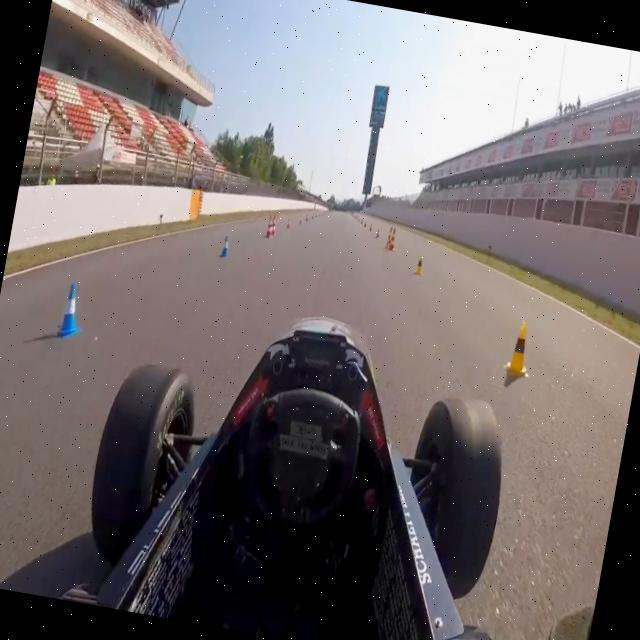blue_cone: (52, 275, 92, 346), (218, 228, 234, 262)
large_orange_cone: (264, 216, 275, 240), (388, 226, 398, 252), (384, 226, 394, 250), (268, 214, 278, 236)
yellow_cone: (502, 316, 538, 380), (412, 252, 427, 277)
